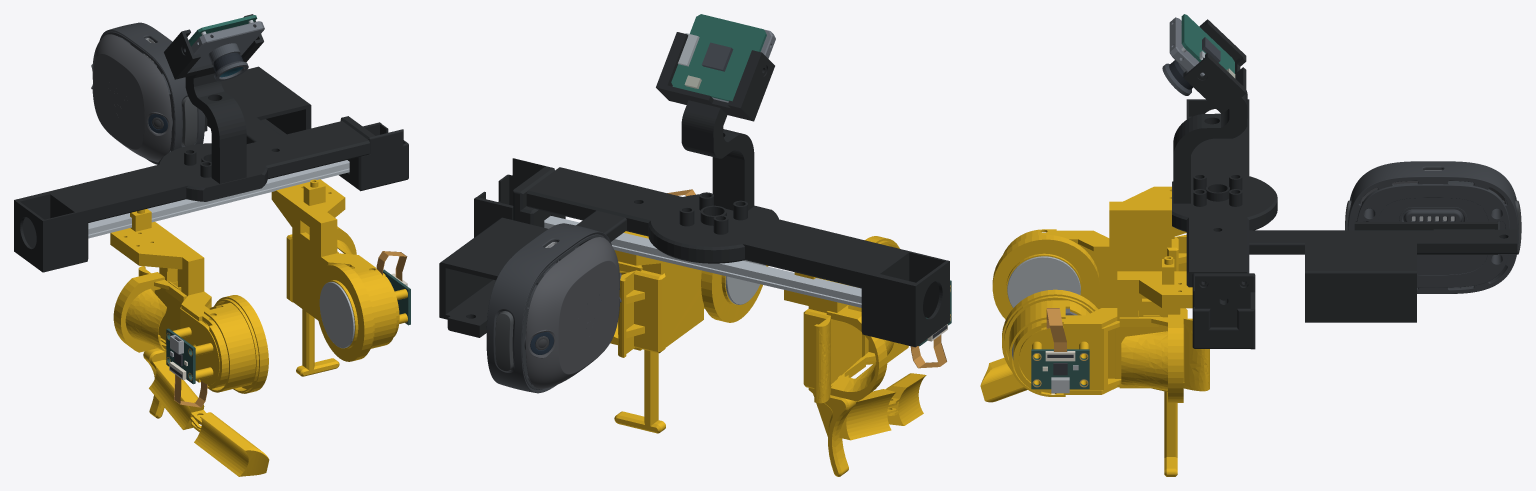
The model's file is aetherock-parallel-v2.glb.
3 views of the same model, side by side, from view 1: azimuth 30°, elevation 25°; view 2: azimuth 150°, elevation 25°; view 3: azimuth 270°, elevation 25° (orthographic). The views are drawn at different scales.
Visible parts, largest first — view 1: Parallel Gripper Frame, VIVE Ultimate Tracker, Left Jaw and Trigger, Right Tactile Back Cover, Right Jaw and Trigger, Hikrobot Camera Mount, Parallel Gripper Side Cover, Hikrobot MV CB060 Camera, Linear Guide Rail, Right Optical Shroud, Right Outer Finger Trigger, Left Gel Retainer Ring (+9 smaller); view 2: Parallel Gripper Frame, VIVE Ultimate Tracker, Hikrobot Camera Mount, Right Tactile Back Cover, Hikrobot MV CB060 Camera, Left Jaw and Trigger, Linear Guide Rail, Left Tactile Back Cover, Parallel Gripper Side Cover, Right Jaw and Trigger, Right Middle Finger Trigger, Left Gel Retainer Ring (+3 smaller); view 3: Parallel Gripper Frame, VIVE Ultimate Tracker, Left Tactile Back Cover, Right Jaw and Trigger, Left Jaw and Trigger, Hikrobot Camera Mount, Parallel Gripper Side Cover, Right Gel Retainer Ring, Hikrobot MV CB060 Camera, Left OV5647 USB Adapter PCB, Right Tactile Contact Surface, Left Optical Shroud (+6 smaller).
Boxes of the visible parts, x1,y1,x2,y2 form: Parallel Gripper Frame: [14, 66, 369, 272]; VIVE Ultimate Tracker: [91, 22, 204, 164]; Left Jaw and Trigger: [271, 179, 399, 376]; Right Tactile Back Cover: [113, 266, 219, 384]; Right Jaw and Trigger: [110, 209, 228, 418]; Hikrobot Camera Mount: [164, 14, 263, 179]; Parallel Gripper Side Cover: [339, 116, 408, 191]; Hikrobot MV CB060 Camera: [188, 15, 264, 81]; Linear Guide Rail: [88, 160, 349, 238]; Right Optical Shroud: [204, 298, 258, 392]; Right Outer Finger Trigger: [191, 411, 269, 476]; Left Gel Retainer Ring: [315, 263, 373, 361]; Parallel Gripper Frame: [439, 167, 949, 347]; VIVE Ultimate Tracker: [486, 223, 621, 393]; Hikrobot Camera Mount: [656, 32, 774, 205]; Right Tactile Back Cover: [803, 305, 905, 403]; Hikrobot MV CB060 Camera: [671, 14, 775, 102]; Left Jaw and Trigger: [614, 231, 703, 433]; Linear Guide Rail: [544, 216, 861, 307]; Left Tactile Back Cover: [610, 261, 665, 357]; Parallel Gripper Side Cover: [474, 158, 565, 237]; Right Jaw and Trigger: [784, 272, 908, 476]; Right Middle Finger Trigger: [839, 389, 897, 440]; Left Gel Retainer Ring: [701, 265, 768, 322]; Parallel Gripper Frame: [1172, 99, 1517, 322]; VIVE Ultimate Tracker: [1345, 161, 1521, 293]; Left Tactile Back Cover: [1019, 308, 1209, 402]; Right Jaw and Trigger: [1056, 186, 1186, 309]; Left Jaw and Trigger: [1013, 256, 1192, 476]; Hikrobot Camera Mount: [1173, 19, 1247, 199]; Parallel Gripper Side Cover: [1192, 273, 1255, 349]; Right Gel Retainer Ring: [992, 235, 1099, 319]; Hikrobot MV CB060 Camera: [1162, 14, 1235, 95]; Left OV5647 USB Adapter PCB: [1031, 349, 1089, 393]; Right Tactile Contact Surface: [1007, 256, 1080, 307]; Left Optical Shroud: [1004, 296, 1093, 396].
Size of the model in its own units: 207 by 200 by 242.
